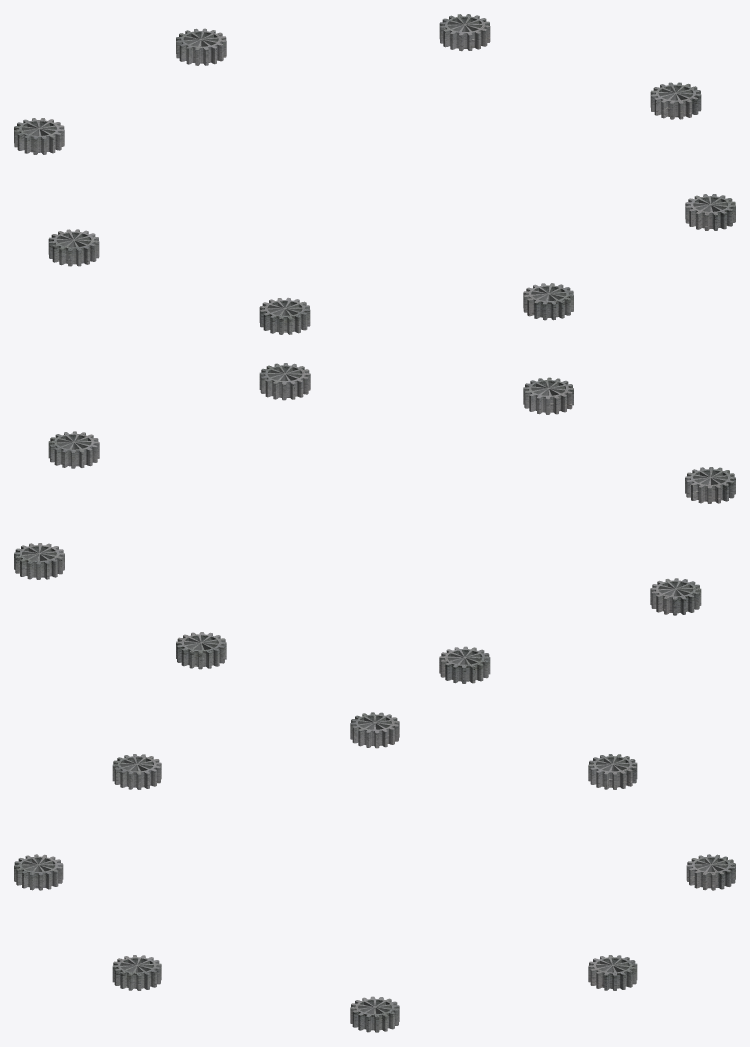
The picture shows the model from 3 angles, top to bottom: view 1: azimuth 30°, elevation 25°; view 2: azimuth 150°, elevation 25°; view 3: azimuth 270°, elevation 25°; orthographic projection. The views are drawn at different scales.
Parts seen in each view (by area): view 1: 01_HZ; view 2: 01_HZ; view 3: 01_HZ.
Boxes of the visible parts, bbox=[...] form: 01_HZ: bbox=[14, 14, 735, 334]; 01_HZ: bbox=[14, 363, 735, 683]; 01_HZ: bbox=[14, 712, 735, 1032].
Size of the model in its own units: 2138 by 50 by 2138.
